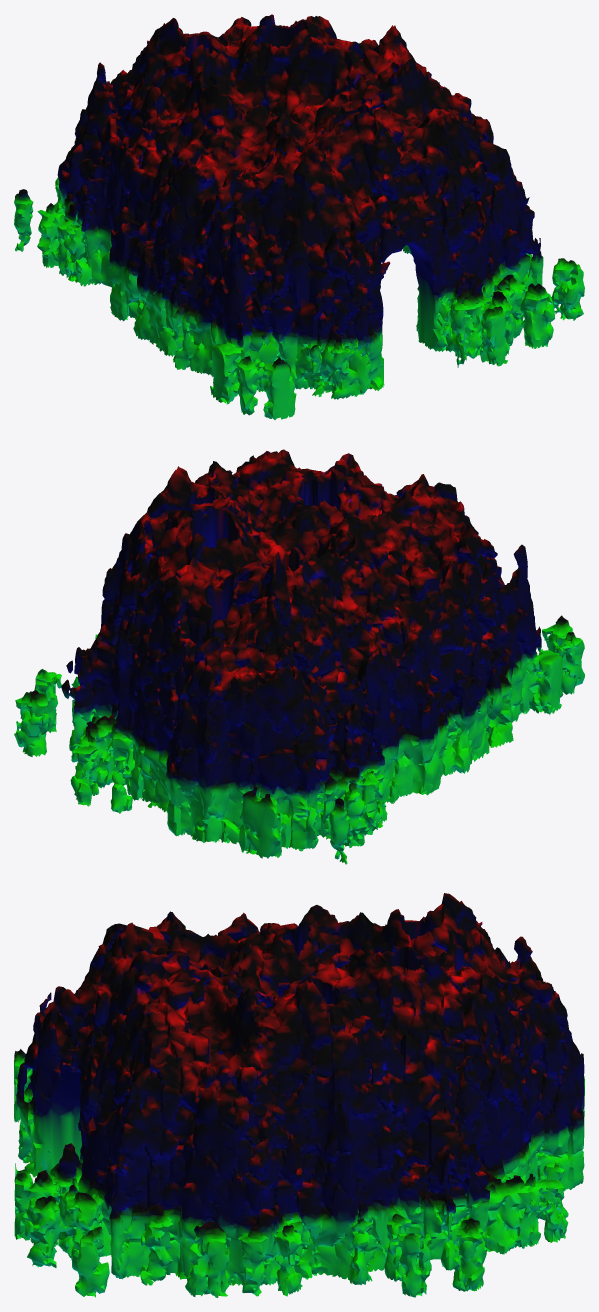
Rendered from CaveRock.fbx.
3 renders of one model, top to bottom at view 1: azimuth 30°, elevation 25°; view 2: azimuth 150°, elevation 25°; view 3: azimuth 270°, elevation 25°, orthographic. The views are drawn at different scales.
Visible parts, largest first — view 1: CaveRock; view 2: CaveRock; view 3: CaveRock.
Part boxes in pixels (x1,y1,x2,y2): CaveRock: (14,14,584,419); CaveRock: (14,449,584,864); CaveRock: (14,893,584,1297).
Bounding box in the file's own units: 278 × 176 × 338.
